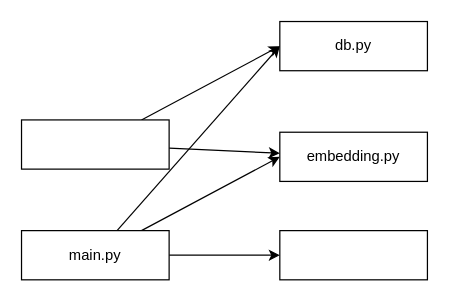
The diagram is 449 pixels wide and 301 high, and some of its shapes have lost their labels. The shapes that lost their labels are listed below. From the top down, each one's box as (x1, y1, x2, y2) in pixels, then its label:
(20, 119, 169, 169): seed.py
(279, 229, 427, 280): llm.py
